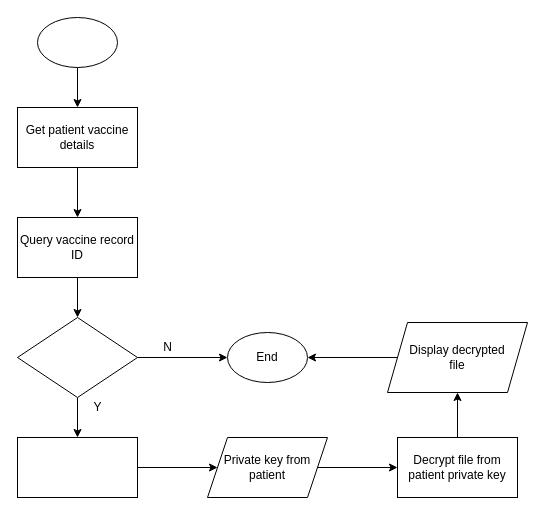
Some shapes in this 545 by 515 pixel diagram are drawn without their labels. The shapes that lost their labels are listed below. From the top down, each one's box as (x1, y1, x2, y2) in pixels, then its label:
(36, 16, 118, 68): Start
(16, 316, 138, 398): Is vaccine record ID valid?
(16, 436, 138, 498): Retrieve encrypted file from IPFS
